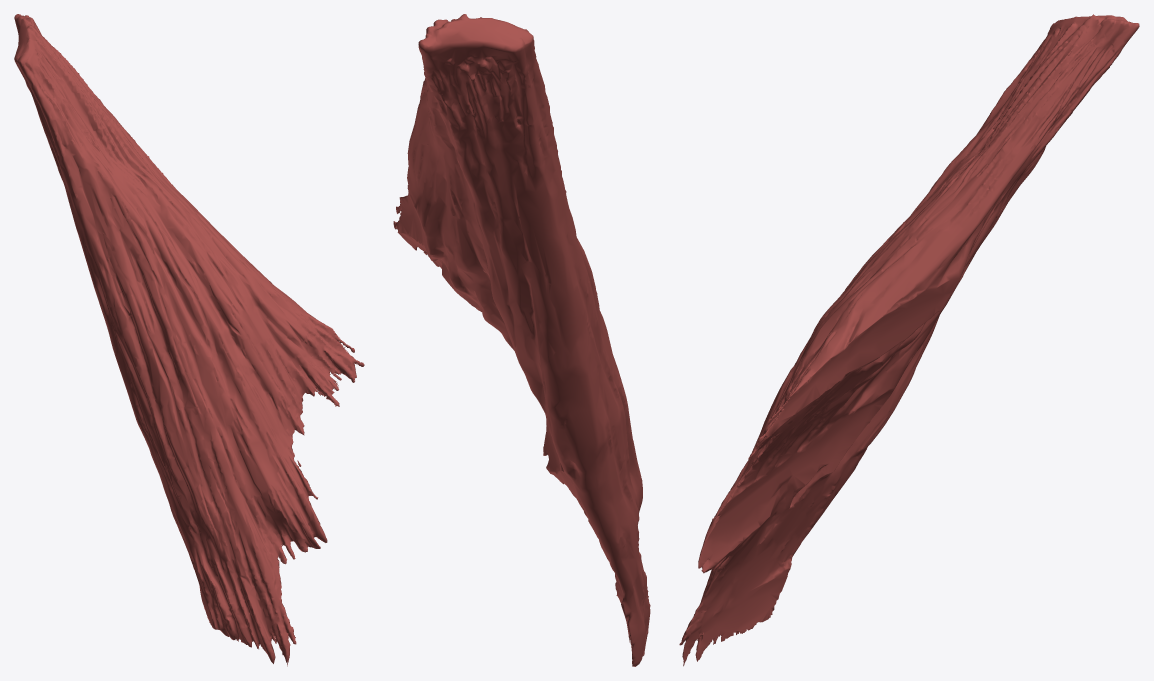
The model's file is FMA13375.glb.
3 views of the same model, side by side, from view 1: azimuth 30°, elevation 25°; view 2: azimuth 150°, elevation 25°; view 3: azimuth 270°, elevation 25° (orthographic). The views are drawn at different scales.
Parts seen in each view (by area): view 1: FMA13375; view 2: FMA13375; view 3: FMA13375.
Boxes of the visible parts, x1,y1,x2,y2 form: FMA13375: (14,14,364,666); FMA13375: (393,14,650,666); FMA13375: (679,14,1139,666).
Bounding box in the file's own units: 0.0571 × 0.1347 × 0.0923.
